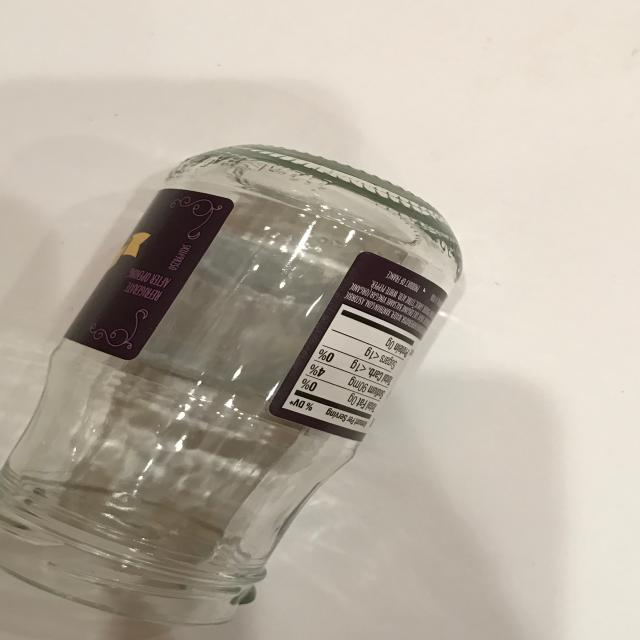glass: (1, 142, 463, 626)
